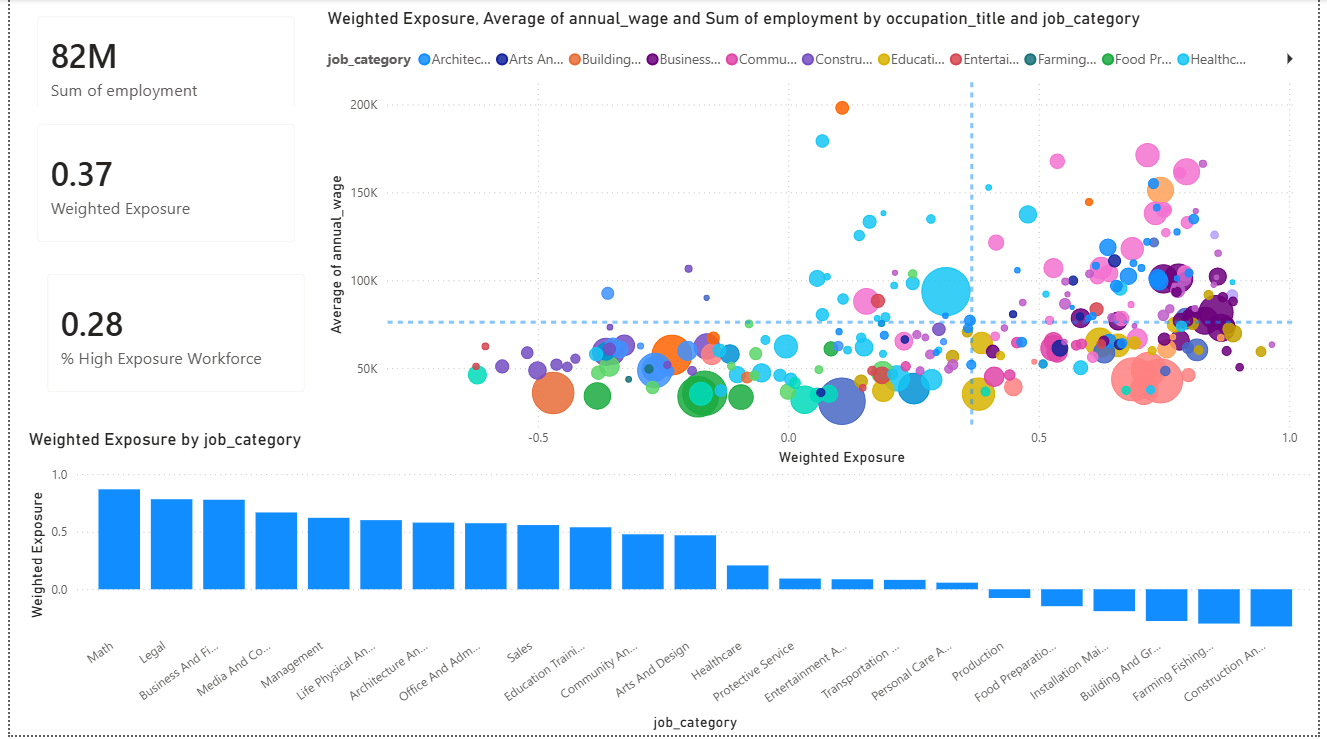

What the dashboard file says about the page in this screenshot:
{"tool":"powerbi","page":{"name":"Page 1","canvas":[1280,720],"ordinal":0},"visuals":[{"type":"cardVisual","fields":{"Data":["Sum(Occupation.employment)"]},"box":[9.8,0,286.1,130.8],"z":0},{"type":"cardVisual","fields":{"Data":["Occupation.Weighted Exposure"]},"box":[9.8,105.2,286,150],"z":1000},{"type":"cardVisual","fields":{"Data":["Occupation.% High Exposure Workforce"]},"box":[19.6,251.9,286,150],"z":2000},{"type":"clusteredColumnChart","fields":{"Category":["Job_Categoriess.job_category"],"Y":["Occupation.Weighted Exposure"]},"box":[13.5,420.7,1266.9,299.6],"z":3000},{"type":"scatterChart","fields":{"Category":["Occupation.occupation_title"],"X":["Occupation.Weighted Exposure"],"Y":["Avg(Occupation.annual_wage)"],"Series":["Job_Categoriess.job_category"],"Size":["Sum(Occupation.employment)"]},"box":[305.7,8.6,966,452.4],"z":4000}]}

Visuals, with their boxes in screenshot pixels (x1, y1, x2, y2), scaled from the page's 1280x720 canvas onto the 1327x739 screenshot:
cardVisual - Sum(Occupation.employment): Rect(10, 0, 307, 134)
cardVisual - Occupation.Weighted Exposure: Rect(10, 108, 307, 262)
cardVisual - Occupation.% High Exposure Workforce: Rect(20, 259, 317, 413)
clusteredColumnChart - Job_Categoriess.job_category x Occupation.Weighted Exposure: Rect(14, 432, 1326, 738)
scatterChart - Occupation.occupation_title x Occupation.Weighted Exposure: Rect(317, 9, 1318, 473)
